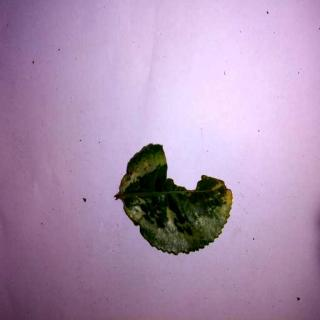Anthracnose: (125, 141, 235, 258)
